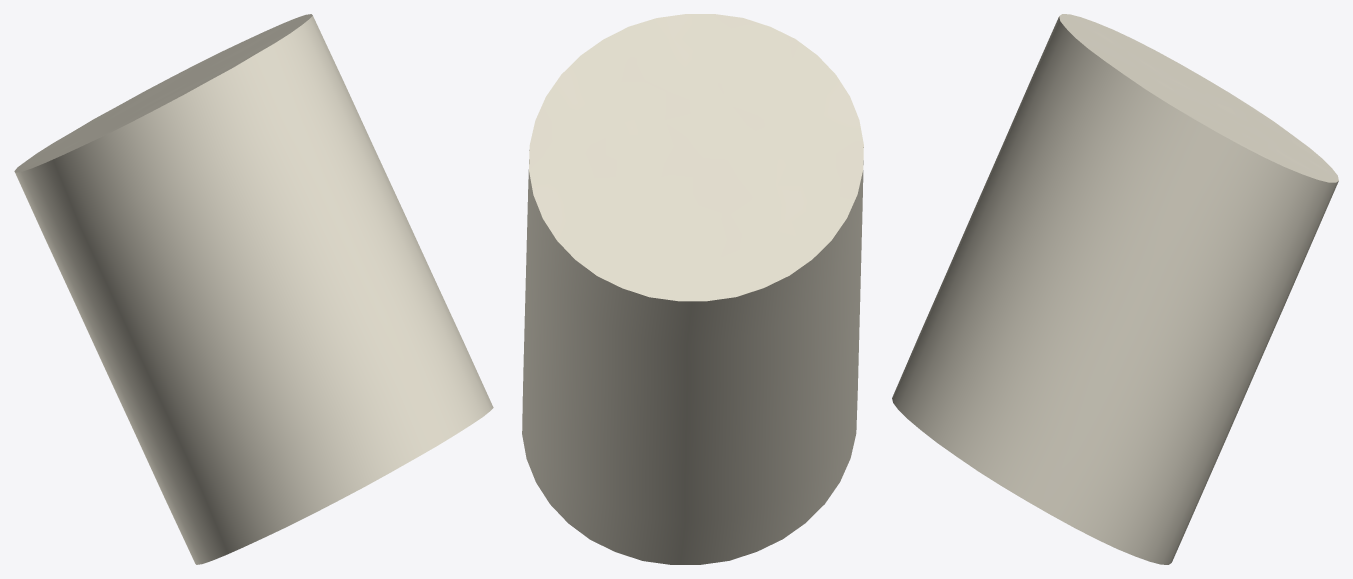
File: fma54783_mm2078m.glb
3 views of the same model, side by side, from view 1: azimuth 30°, elevation 25°; view 2: azimuth 150°, elevation 25°; view 3: azimuth 270°, elevation 25° (orthographic). The views are drawn at different scales.
Parts seen in each view (by area): view 1: FMA54783_MM2078M; view 2: FMA54783_MM2078M; view 3: FMA54783_MM2078M.
Part boxes in pixels (left/top/right/bottom): FMA54783_MM2078M: left=14, top=14, right=493, bottom=564; FMA54783_MM2078M: left=522, top=14, right=863, bottom=564; FMA54783_MM2078M: left=892, top=14, right=1338, bottom=564.
Size of the model in its own units: 0.00711 by 0.00942 by 0.00758.
